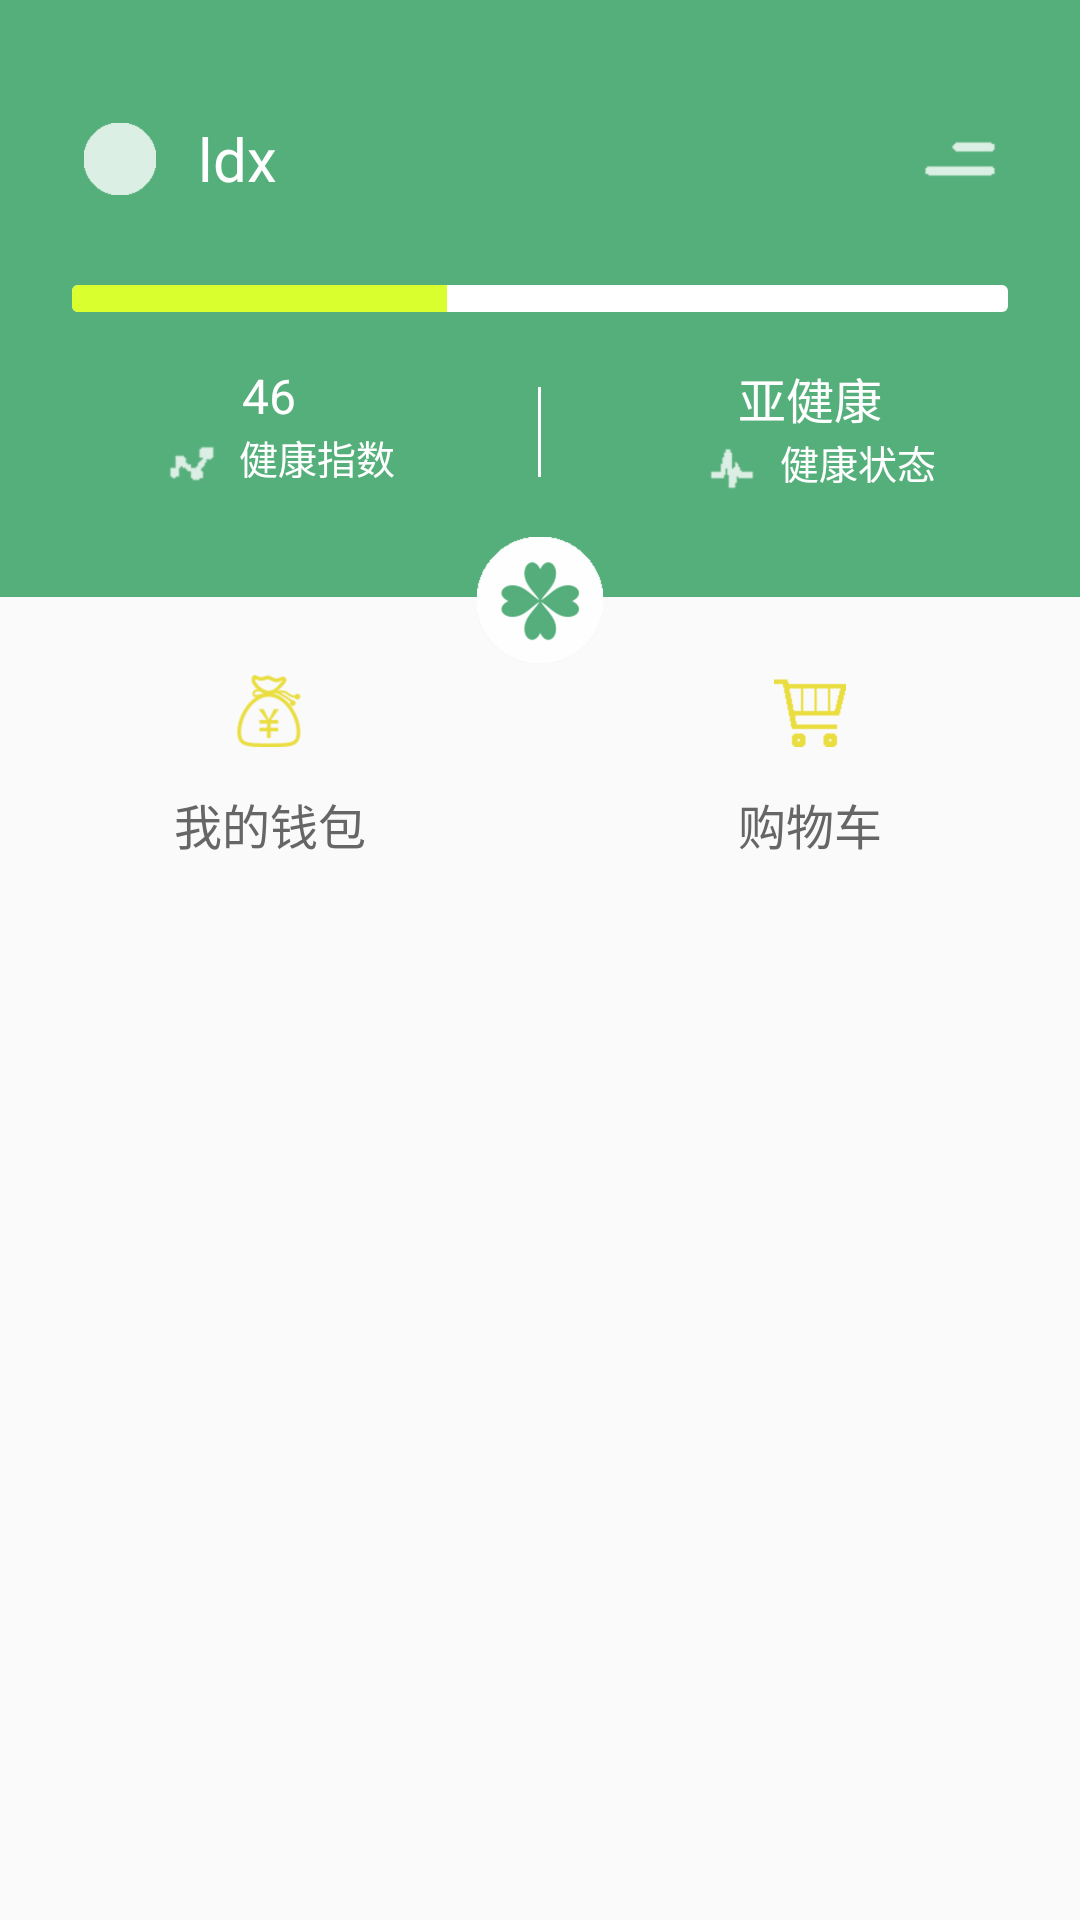

Where to tap for icons on this 1080×1920 app screen, as [x,y]:
health condition: [732,468]
health figure: [192,464]
shopping cart: [810,713]
wallet: [269,711]
